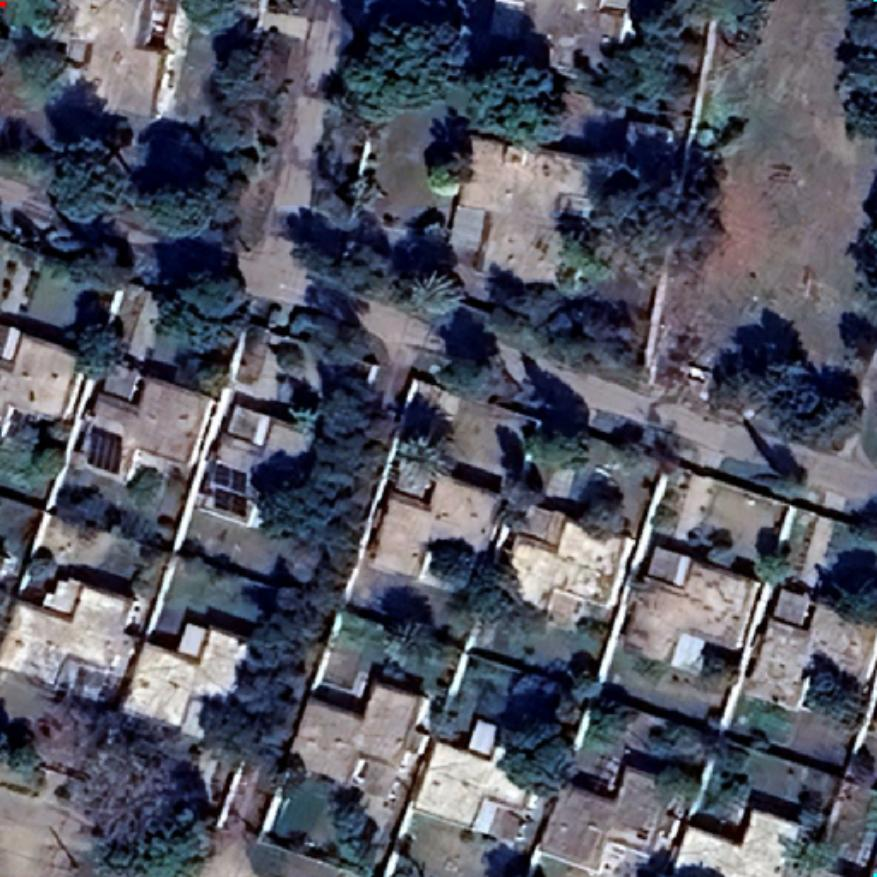Solarpanel: (204, 457, 255, 521), (79, 421, 129, 480)
